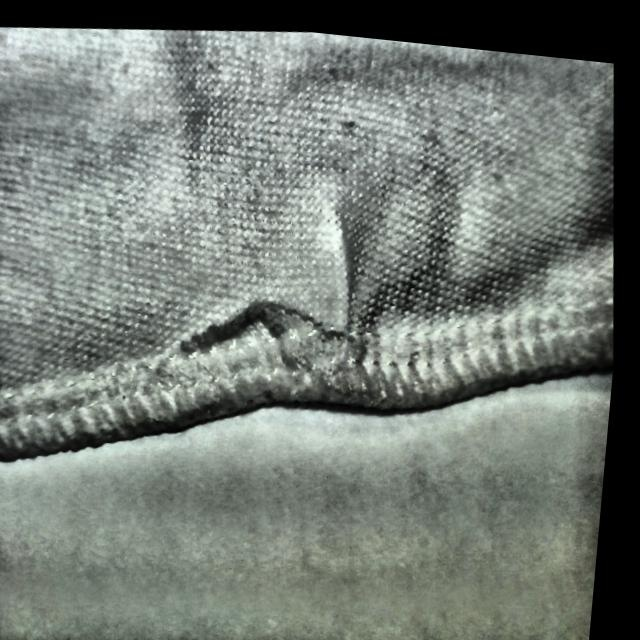seam: (162, 197, 419, 437)
